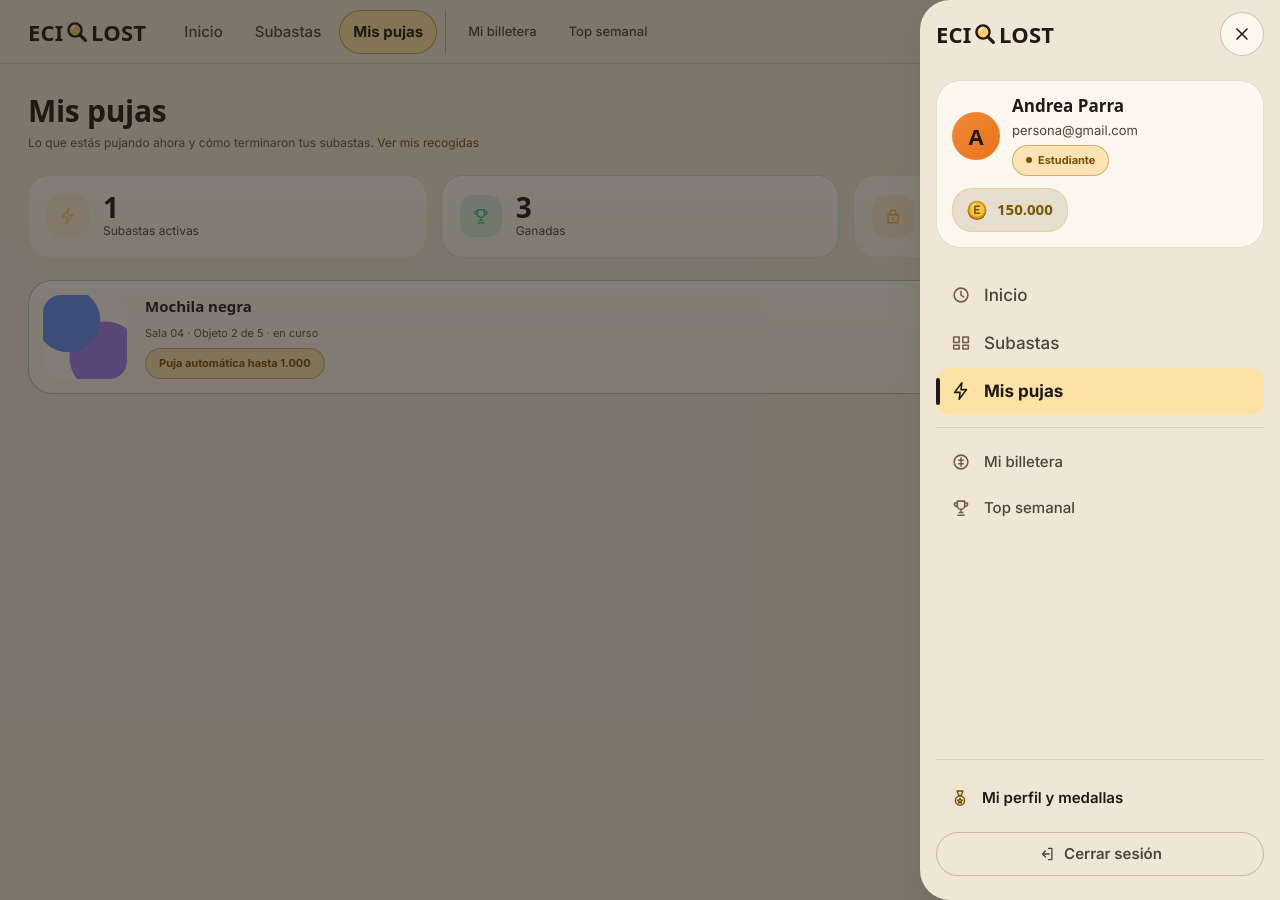
Scenario: Marco de la aplicación › al elegir una seccion el cajon se cierra y se navega
This screenshot has width=1280, height=900.
Earlier steps of the test are not shown.
Click the link "Top semanal" at (1012, 508), box left=950, top=497, right=1075, bottom=519
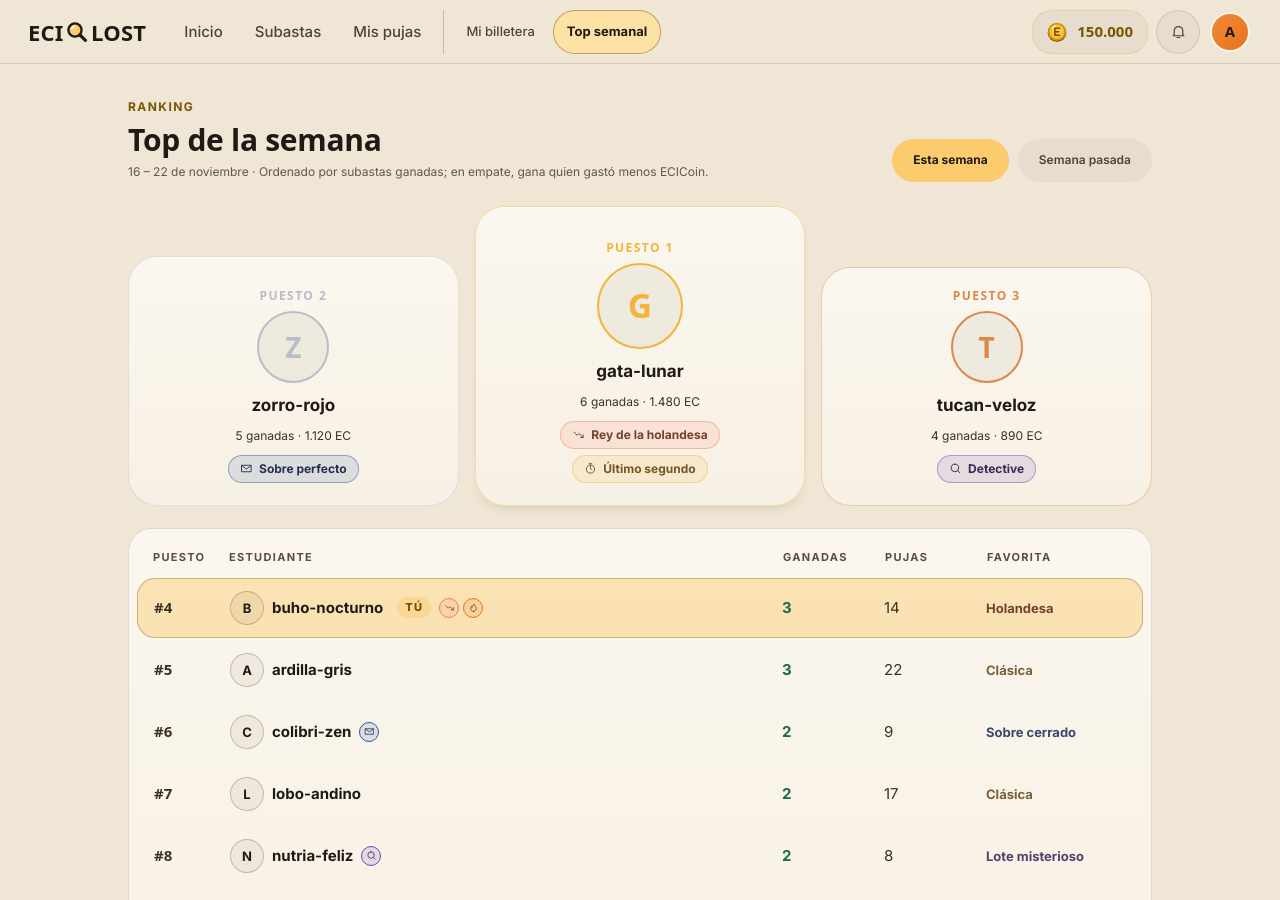
Expected: the link "Top semanal" is shown, left=553, top=10, right=661, bottom=54
Now the dialog is gone
